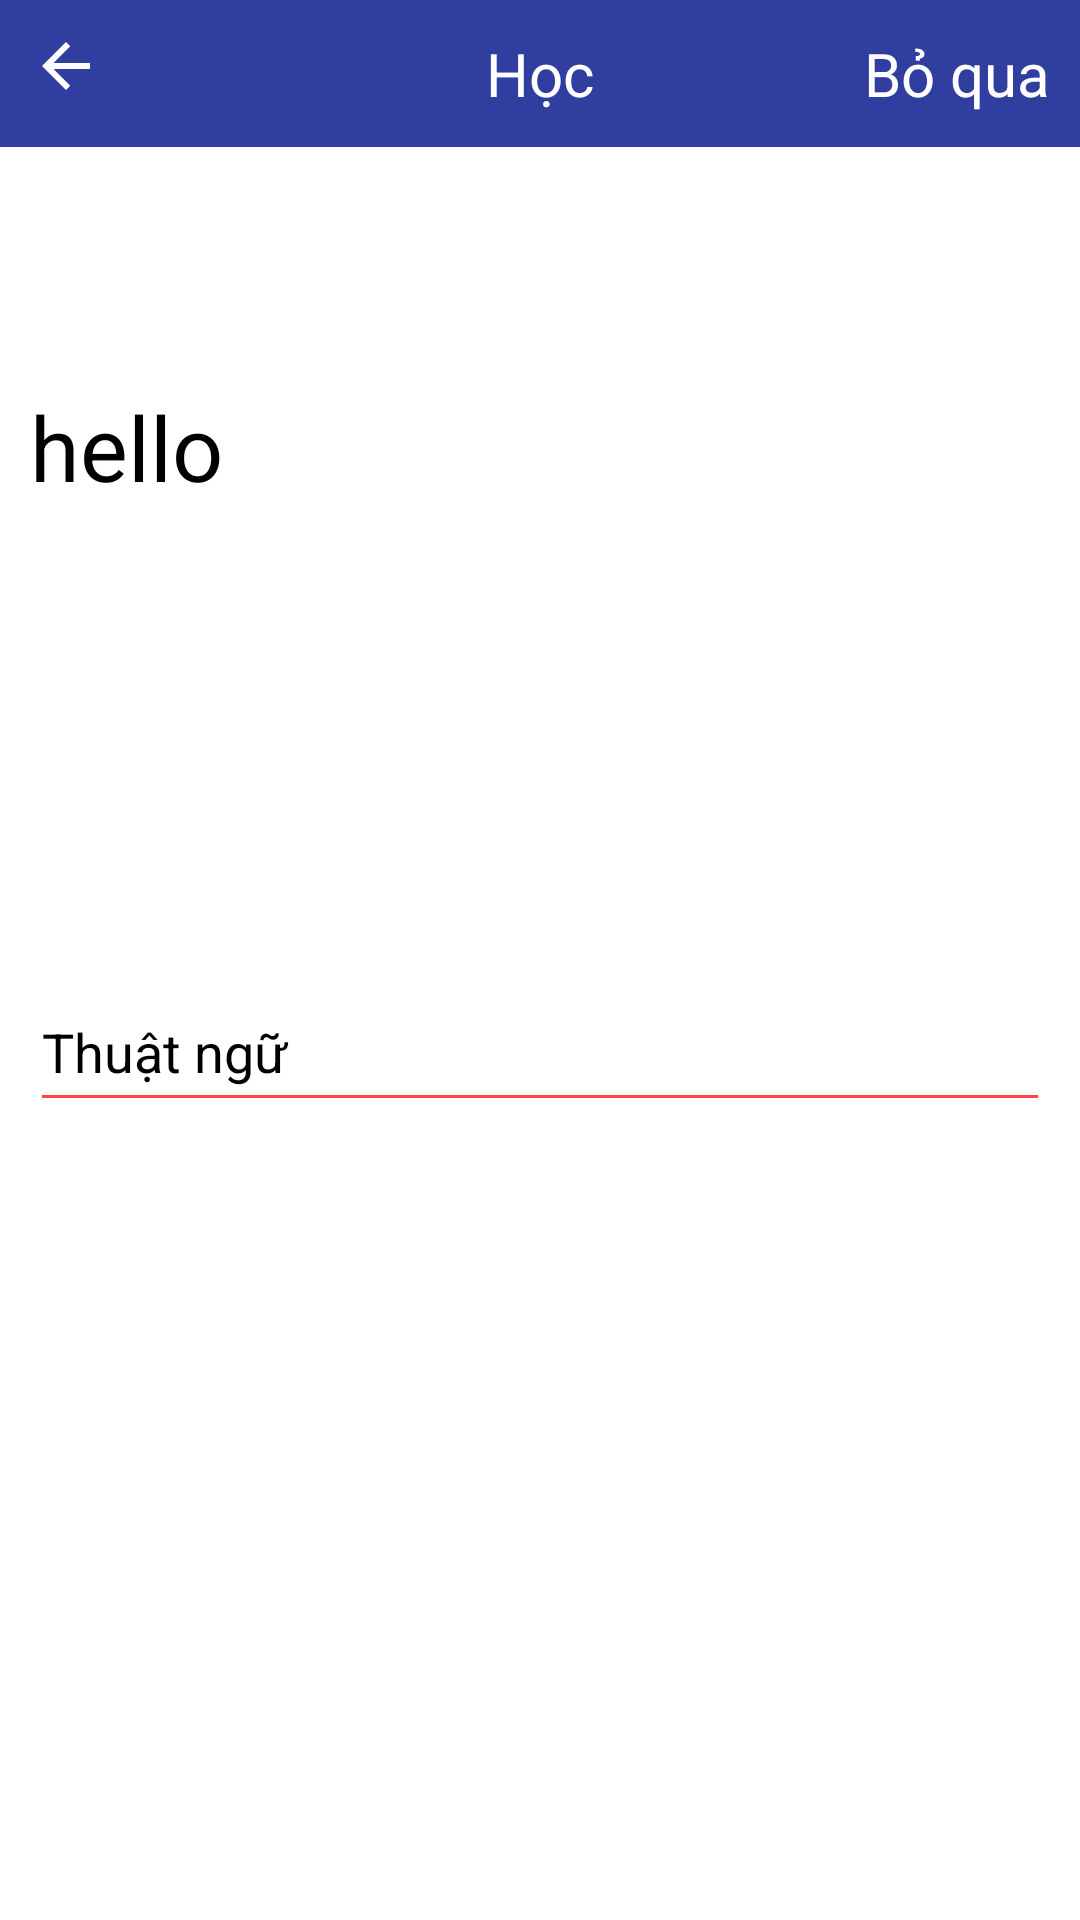

Icons on this 1080x1920 Android screen, each with its box as (x1, y1, x2, y2):
back: (42, 42, 90, 90)
